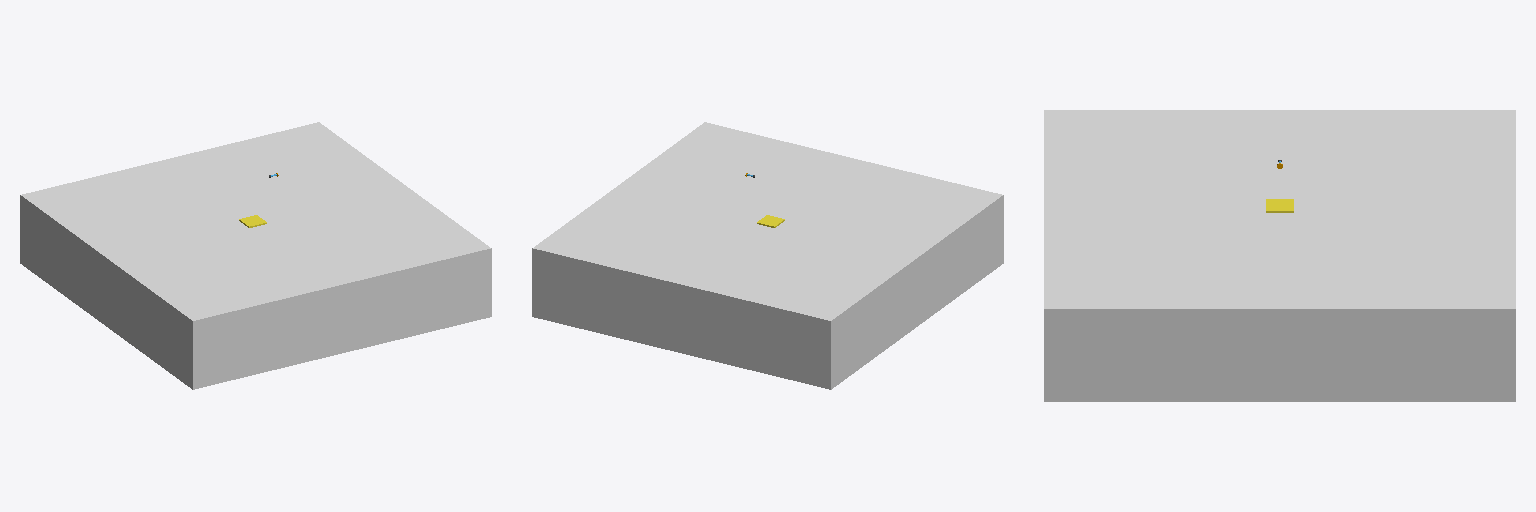
The robot description file, URDF, robot "panda":
<?xml version="1.0" encoding="utf-8"?>

<robot xmlns:drake="http://drake.mit.edu" name="panda">
  <material name="black">
    <color rgba="0.3 0.3 0.3 1"/>
  </material>

  <link name="panda_link0">
    <inertial>
      <mass value="2.92"/>
      <origin xyz="-0.025566 -2.88e-05 0.057332" rpy="0 0 0"/>
      <inertia ixx="0.00782229414331" ixy="-1.56191622996e-05" ixz="-0.00126005738123" iyy="0.0109027971813" iyz="1.08233858202e-05" izz="0.0102355503949"/>
    </inertial>
    <visual>
      <origin rpy="1.57079632679 0 0"/>
      <geometry>
        <mesh filename="package://drake/manipulation/models/franka_description/meshes/visual/link0.obj"/>
      </geometry>
    </visual>
    <collision>
      <origin rpy="0 0 0" xyz="0.02 0.0 0.04"/>
      <geometry>
        <sphere radius="0.06"/>
      </geometry>
    </collision>
    <collision>
      <origin rpy="0 0 0" xyz="0.01 0.05 0.06"/>
      <geometry>
        <sphere radius="0.06"/>
      </geometry>
    </collision>
    <collision>
      <origin rpy="0 0 0" xyz="0.01 -0.05 0.06"/>
      <geometry>
        <sphere radius="0.06"/>
      </geometry>
    </collision>
    <collision>
      <origin rpy="0 0 0" xyz="-0.06 0.0 0.06"/>
      <geometry>
        <sphere radius="0.06"/>
      </geometry>
    </collision>
    <collision>
      <origin rpy="0 0 0" xyz="-0.06 0.05 0.06"/>
      <geometry>
        <sphere radius="0.06"/>
      </geometry>
    </collision>
    <collision>
      <origin rpy="0 0 0" xyz="-0.03 0.05 0.06"/>
      <geometry>
        <sphere radius="0.06"/>
      </geometry>
    </collision>
    <collision>
      <origin rpy="0 0 0" xyz="-0.03 -0.05 0.06"/>
      <geometry>
        <sphere radius="0.06"/>
      </geometry>
    </collision>
    <collision>
      <origin rpy="0 0 0" xyz="-0.06 -0.05 0.06"/>
      <geometry>
        <sphere radius="0.06"/>
      </geometry>
    </collision>
    <collision>
      <origin rpy="0 0 0" xyz="-0.09 -0.05 0.06"/>
      <geometry>
        <sphere radius="0.06"/>
      </geometry>
    </collision>
    <collision>
      <origin rpy="0 0 0" xyz="-0.09 0.0 0.06"/>
      <geometry>
        <sphere radius="0.06"/>
      </geometry>
    </collision>
    <collision>
      <origin rpy="0 0 0" xyz="-0.09 0.05 0.06"/>
      <geometry>
        <sphere radius="0.06"/>
      </geometry>
    </collision>
    <collision>
      <origin rpy="0 0 0" xyz="-0.12 0.0 0.06"/>
      <geometry>
        <sphere radius="0.06"/>
      </geometry>
    </collision>
    <collision>
      <origin rpy="0 0 0" xyz="0.0 0.0 0.113"/>
      <geometry>
        <sphere radius="0.06"/>
      </geometry>
    </collision>
    <collision>
      <origin rpy="0 0 0" xyz="0.0 0.0 0.083"/>
      <geometry>
        <sphere radius="0.06"/>
      </geometry>
    </collision>
  </link>
  <link name="panda_link1">
    <inertial>
      <mass value="2.74"/>
      <origin xyz="0 -0.0324958 -0.0675818" rpy="0 0 0"/>
      <inertia ixx="0.0180416958283" ixy="0.0" ixz="0.0" iyy="0.0159136071891" iyz="0.0046758424612" izz="0.00620690827127"/>
    </inertial>
    <visual>
      <origin rpy="1.57079632679 0 0"/>
      <geometry>
        <mesh filename="package://drake/manipulation/models/franka_description/meshes/visual/link1.obj"/>
      </geometry>
    </visual>
    <collision>
      <origin rpy="0 0 0" xyz="0.0 0.0 -0.13"/>
      <geometry>
        <sphere radius="0.06"/>
      </geometry>
    </collision>
    <collision>
      <origin rpy="0 0 0" xyz="0.0 0.0 -0.16"/>
      <geometry>
        <sphere radius="0.06"/>
      </geometry>
    </collision>
    <collision>
      <origin rpy="0 0 0" xyz="0.0 0.0 -0.19"/>
      <geometry>
        <sphere radius="0.06"/>
      </geometry>
    </collision>
    <collision>
      <origin rpy="0 0 0" xyz="0.0 -0.04 -0.06"/>
      <geometry>
        <sphere radius="0.06"/>
      </geometry>
    </collision>
    <collision>
      <origin rpy="0 0 0" xyz="0.0 -0.0750 -0.0"/>
      <geometry>
        <sphere radius="0.06"/>
      </geometry>
    </collision>
    <collision>
      <origin rpy="0 0 0" xyz="0.0 -0.0350 -0.0"/>
      <geometry>
        <sphere radius="0.06"/>
      </geometry>
    </collision>
  </link>
  <joint name="panda_joint1" type="revolute">
    <origin rpy="0 0 0" xyz="0 0 0.333"/>
    <parent link="panda_link0"/>
    <child link="panda_link1"/>
    <axis xyz="0 0 1"/>
    <limit effort="87" lower="-2.8973" upper="2.8973" velocity="2.1750"/>
  </joint>
  <link name="panda_link2">
    <inertial>
      <mass value="2.74"/>
      <origin xyz="0 -0.06861 0.0322285" rpy="0 0 0"/>
      <inertia ixx="0.0182856182281" ixy="0.0" ixz="0.0" iyy="0.00621358421175" iyz="-0.00472844221905" izz="0.0161514346309"/>
    </inertial>
    <visual>
      <origin rpy="1.57079632679 0 0"/>
      <geometry>
        <mesh filename="package://drake/manipulation/models/franka_description/meshes/visual/link2.obj"/>
      </geometry>
    </visual>
    <collision>
      <origin rpy="0 0 0" xyz="0.0 0.0 0.0"/>
      <geometry>
        <sphere radius="0.06"/>
      </geometry>
    </collision>
    <collision>
      <origin rpy="0 0 0" xyz="0.0 0.0 0.035"/>
      <geometry>
        <sphere radius="0.06"/>
      </geometry>
    </collision>
    <collision>
      <origin rpy="0 0 0" xyz="0.0 0.0 0.075"/>
      <geometry>
        <sphere radius="0.06"/>
      </geometry>
    </collision>
    <collision>
      <origin rpy="0 0 0" xyz="0.0 -0.1710 0.0"/>
      <geometry>
        <sphere radius="0.06"/>
      </geometry>
    </collision>
    <collision>
      <origin rpy="0 0 0" xyz="0.0 -0.1360 0.0"/>
      <geometry>
        <sphere radius="0.06"/>
      </geometry>
    </collision>
    <collision>
      <origin rpy="0 0 0" xyz="0.0 -0.070 0.040"/>
      <geometry>
        <sphere radius="0.06"/>
      </geometry>
    </collision>
  </link>
  <joint name="panda_joint2" type="revolute">
    <origin rpy="-1.57079632679 0 0" xyz="0 0 0"/>
    <parent link="panda_link1"/>
    <child link="panda_link2"/>
    <axis xyz="0 0 1"/>
    <limit effort="87" lower="-1.7628" upper="1.7628" velocity="2.1750"/>
  </joint>
  <link name="panda_link3">
    <inertial>
      <mass value="2.38"/>
      <origin xyz="0.0469893 0.0316374 -0.031704" rpy="0 0 0"/>
      <inertia ixx="0.00771376630908" ixy="-0.00248490625138" ixz="-0.00332147581033" iyy="0.00989108008727" iyz="-0.00217796151484" izz="0.00811723558464"/>
    </inertial>
    <visual>
      <origin rpy="1.57079632679 0 0"/>
      <geometry>
        <mesh filename="package://drake/manipulation/models/franka_description/meshes/visual/link3.obj"/>
      </geometry>
    </visual>
    <collision>
      <origin rpy="0 0 0" xyz="0.0 0.0 -0.11"/>
      <geometry>
        <sphere radius="0.06"/>
      </geometry>
    </collision>
    <collision>
      <origin rpy="0 0 0" xyz="0.0 0.0 -0.07"/>
      <geometry>
        <sphere radius="0.06"/>
      </geometry>
    </collision>
    <collision>
      <origin rpy="0 0 0" xyz="0.0825 0.03 -0.0"/>
      <geometry>
        <sphere radius="0.06"/>
      </geometry>
    </collision>
    <collision>
      <origin rpy="0 0 0" xyz="0.0825 0.06 -0.0"/>
      <geometry>
        <sphere radius="0.06"/>
      </geometry>
    </collision>
    <collision>
      <origin rpy="0 0 0" xyz="0.04 0.03 -0.03"/>
      <geometry>
        <sphere radius="0.06"/>
      </geometry>
    </collision>
  </link>
  <joint name="panda_joint3" type="revolute">
    <origin rpy="1.57079632679 0 0" xyz="0 -0.316 0"/>
    <parent link="panda_link2"/>
    <child link="panda_link3"/>
    <axis xyz="0 0 1"/>
    <limit effort="87" lower="-2.8973" upper="2.8973" velocity="2.1750"/>
  </joint>
  <link name="panda_link4">
    <inertial>
      <mass value="2.38"/>
      <origin xyz="-0.0360446 0.0336853 0.031882" rpy="0 0 0"/>
      <inertia ixx="0.00799663881132" ixy="0.00347095570217" ixz="-0.00241222942995" iyy="0.00825390705278" iyz="0.00235774044121" izz="0.0102515004345"/>
    </inertial>
    <visual>
      <origin rpy="1.57079632679 0 0"/>
      <geometry>
        <mesh filename="package://drake/manipulation/models/franka_description/meshes/visual/link4.obj"/>
      </geometry>
    </visual>
    <collision>
      <origin rpy="0 0 0" xyz="0.0 0.0 0.06"/>
      <geometry>
        <sphere radius="0.06"/>
      </geometry>
    </collision>
    <collision>
      <origin rpy="0 0 0" xyz="0.0 0.0 0.03"/>
      <geometry>
        <sphere radius="0.06"/>
      </geometry>
    </collision>
    <collision>
      <origin rpy="0 0 0" xyz="-0.0350 0.03 0.04"/>
      <geometry>
        <sphere radius="0.05"/>
      </geometry>
    </collision>
    <collision>
      <origin rpy="0 0 0" xyz="-0.05 0.04 0.01"/>
      <geometry>
        <sphere radius="0.055"/>
      </geometry>
    </collision>
    <collision>
      <origin rpy="0 0 0" xyz="0.0 0.0 0.0"/>
      <geometry>
        <sphere radius="0.06"/>
      </geometry>
    </collision>
    <collision>
      <origin rpy="0 0 0" xyz="-0.0825 0.0640 -0.0"/>
      <geometry>
        <sphere radius="0.06"/>
      </geometry>
    </collision>
    <collision>
      <origin rpy="0 0 0" xyz="-0.0825 0.1040 -0.0"/>
      <geometry>
        <sphere radius="0.06"/>
      </geometry>
    </collision>
  </link>
  <joint name="panda_joint4" type="revolute">
    <origin rpy="1.57079632679 0 0" xyz="0.0825 0 0"/>
    <parent link="panda_link3"/>
    <child link="panda_link4"/>
    <axis xyz="0 0 1"/>
    <limit effort="87" lower="-3.0718" upper="-0.0698" velocity="2.1750"/>
  </joint>
  <link name="panda_link5">
    <inertial>
      <mass value="2.74"/>
      <origin xyz="0 0.0610427 -0.104176" rpy="0 0 0"/>
      <inertia ixx="0.030371374513" ixy="6.50283587108e-07" ixz="-1.05129179916e-05" iyy="0.0288752887402" iyz="-0.00775653445787" izz="0.00444134056164"/>
    </inertial>
    <visual>
      <origin rpy="1.57079632679 0 0"/>
      <geometry>
        <mesh filename="package://drake/manipulation/models/franka_description/meshes/visual/link5.obj"/>
      </geometry>
    </visual>
    <collision>
      <origin rpy="0 0 0" xyz="0.0 0.0 -0.24"/>
      <geometry>
        <sphere radius="0.06"/>
      </geometry>
    </collision>
    <collision>
      <origin rpy="0 0 0" xyz="0.0 0.0 -0.21"/>
      <geometry>
        <sphere radius="0.06"/>
      </geometry>
    </collision>
    <collision>
      <origin rpy="0 0 0" xyz="0.0 0.09 -0.055"/>
      <geometry>
        <sphere radius="0.035"/>
      </geometry>
    </collision>
    <collision>
      <origin rpy="0 0 0" xyz="0.0 0.0850 -0.08"/>
      <geometry>
        <sphere radius="0.035"/>
      </geometry>
    </collision>
    <collision>
      <origin rpy="0 0 0" xyz="0.0 0.0850 -0.11"/>
      <geometry>
        <sphere radius="0.035"/>
      </geometry>
    </collision>
    <collision>
      <origin rpy="0 0 0" xyz="0.0 0.08 -0.13"/>
      <geometry>
        <sphere radius="0.035"/>
      </geometry>
    </collision>
    <collision>
      <origin rpy="0 0 0" xyz="0.0 0.08 -0.15"/>
      <geometry>
        <sphere radius="0.035"/>
      </geometry>
    </collision>
    <collision>
      <origin rpy="0 0 0" xyz="0.0 0.07 -0.16"/>
      <geometry>
        <sphere radius="0.04"/>
      </geometry>
    </collision>
    <collision>
      <origin rpy="0 0 0" xyz="0.0 0.08 -0.02"/>
      <geometry>
        <sphere radius="0.05"/>
      </geometry>
    </collision>
    <collision>
      <origin rpy="0 0 0" xyz="0.0 0.08 -0.0"/>
      <geometry>
        <sphere radius="0.055"/>
      </geometry>
    </collision>
    <collision>
      <origin rpy="0 0 0" xyz="0.0 0.05 -0.20"/>
      <geometry>
        <sphere radius="0.055"/>
      </geometry>
    </collision>
    <collision>
      <origin rpy="0 0 0" xyz="0.0 0.07 -0.0"/>
      <geometry>
        <sphere radius="0.06"/>
      </geometry>
    </collision>
  </link>
  <joint name="panda_joint5" type="revolute">
    <origin rpy="-1.57079632679 0 0" xyz="-0.0825 0.384 0"/>
    <parent link="panda_link4"/>
    <child link="panda_link5"/>
    <axis xyz="0 0 1"/>
    <limit effort="12" lower="-2.8973" upper="2.8973" velocity="2.610"/>
  </joint>
  <link name="panda_link6">
    <inertial>
      <mass value="1.55"/>
      <origin xyz="0.0510509 0.009108 0.0106343" rpy="0 0 0"/>
      <inertia ixx="0.00303336450376" ixy="-0.000437276865508" ixz="0.000629257294877" iyy="0.00404479911567" iyz="0.000130472021025" izz="0.00558234286039"/>
    </inertial>
    <visual>
      <origin rpy="1.57079632679 0 0"/>
      <geometry>
        <mesh filename="package://drake/manipulation/models/franka_description/meshes/visual/link6.obj"/>
      </geometry>
    </visual>
    <collision>
      <origin rpy="0 0 0" xyz="0.08 0.03 0.0"/>
      <geometry>
        <sphere radius="0.06"/>
      </geometry>
    </collision>
    <collision>
      <origin rpy="0 0 0" xyz="0.04 0.01 0.0"/>
      <geometry>
        <sphere radius="0.06"/>
      </geometry>
    </collision>
    <collision>
      <origin rpy="0 0 0" xyz="0.04 0.0 0.0"/>
      <geometry>
        <sphere radius="0.06"/>
      </geometry>
    </collision>
    <collision>
      <origin rpy="0 0 0" xyz="0.0 0.0 0.01"/>
      <geometry>
        <sphere radius="0.06"/>
      </geometry>
    </collision>
    <collision>
      <origin rpy="0 0 0" xyz="0.0 0.0 -0.03"/>
      <geometry>
        <sphere radius="0.05"/>
      </geometry>
    </collision>
  </link>
  <joint name="panda_joint6" type="revolute">
    <origin rpy="1.57079632679 0 0" xyz="0 0 0"/>
    <parent link="panda_link5"/>
    <child link="panda_link6"/>
    <axis xyz="0 0 1"/>
    <limit effort="12" lower="-0.0175" upper="3.7525" velocity="2.610"/>
  </joint>
  <link name="panda_link7">,
    <inertial>
      <mass value="0.54"/>
      <origin xyz="0.0109695 0.0107965 0.0650411" rpy="0 0 0"/>
      <inertia ixx="0.000888868887021" ixy="-0.00012239074652" ixz="3.98699829666e-05" iyy="0.000888001373233" iyz="-9.33825115206e-05" izz="0.0007176834609"/>
    </inertial>
    <visual>
      <origin rpy="1.57079632679 0 0"/>
      <geometry>
        <mesh filename="package://drake/manipulation/models/franka_description/meshes/visual/link7.obj"/>
      </geometry>
    </visual>
    <collision>
      <origin rpy="0 0 0" xyz="0 0 0.06"/>
      <geometry>
        <sphere radius="0.06"/>
      </geometry>
    </collision>
    <collision>
      <origin rpy="0 0 0" xyz="0 0 0.01"/>
      <geometry>
        <sphere radius="0.05"/>
      </geometry>
    </collision>
  </link>
  <joint name="panda_joint7" type="revolute">
    <origin rpy="1.57079632679 0 0" xyz="0.088 0 0"/>
    <parent link="panda_link6"/>
    <child link="panda_link7"/>
    <axis xyz="0 0 1"/>
    <limit effort="12" lower="-2.8973" upper="2.8973" velocity="2.610"/>
  </joint>
  <link name="panda_link8">
    <inertial>
      <origin rpy="0 0 0" xyz="0 0 0.0048"/>
      <mass value="0.0779312"/>
      <interia ixx="0.0000193318083" iyy="0.0000193318083" izz="0.0000386636166" ixy="0" ixz="0" iyz="0"/>
    </inertial>
    <collision>
      <origin rpy="0 0 0" xyz="0 0 0.0048"/>
      <geometry>
        <cylinder radius="0.0315" length="0.0096"/>
      </geometry>
    </collision>
    <visual>
      <origin rpy="0 0 0" xyz="0 0 0.0048"/>
      <geometry>
        <cylinder radius="0.0315" length="0.0096"/>
      </geometry>
    </visual>
  </link>
  <joint name="panda_joint8" type="fixed">
    <origin rpy="0 0 0" xyz="0 0 0.107"/>
    <parent link="panda_link7"/>
    <child link="panda_link8"/>
  </joint>
  <link name="panda_link9">
    <inertial>
      <origin rpy="0 0 0" xyz="0 0 0.0508"/>
      <mass value="0.1340688"/>
      <interia ixx="0.000005405989188" iyy="0.000005405989188" izz="0.000010811978376" ixy="0" ixz="0" iyz="0"/>
    </inertial>
    <visual>
      <origin rpy="0 0 0" xyz="0 0 0.0508"/>
      <geometry>
        <cylinder radius="0.0127" length="0.1016"/>
      </geometry>
    </visual>
  </link>
  <joint name="panda_joint9" type="fixed">
    <origin rpy="0 0 0" xyz="0 0 0.0096"/>
    <parent link="panda_link8"/>
    <child link="panda_link9"/> 
  </joint>
  <link name="panda_link10">
   <inertial>
      <origin rpy="0 0 0" xyz="0 0 0.0153"/>
      <mass value="0.057"/>
      <interia ixx="0.0" iyy="0.0" izz="0.0" ixy="0" ixz="0" iyz="0"/>
    </inertial>
    <visual>
      <origin rpy="0 0 0" xyz="0 0 0.0153"/>
      <geometry>
        <sphere radius="0.0195"/>
      </geometry>
      <material name="black"/>
    </visual>
    <collision>
      <origin rpy="0 0 0" xyz="0 0 0.0153"/>
      <geometry>
        <sphere radius="0.0195"/>
      </geometry>
    </collision>
  </link>
  <joint name="panda_joint10" type="fixed">
    <origin rpy="0 0 0" xyz="0 0 0.1016"/>
    <parent link="panda_link9"/>
    <child link="panda_link10"/>
  </joint>
  <transmission name="panda_tran1">
    <type>transmission_interface/SimpleTransmission</type>
    <joint name="panda_joint1">
      <hardwareInterface>PositionJointInterface</hardwareInterface>
    </joint>
    <actuator name="panda_motor1">
      <hardwareInterface>PositionJointInterface</hardwareInterface>
      <mechanicalReduction>1</mechanicalReduction>
    </actuator>
  </transmission>
  <transmission name="panda_tran2">
    <type>transmission_interface/SimpleTransmission</type>
    <joint name="panda_joint2">
      <hardwareInterface>PositionJointInterface</hardwareInterface>
    </joint>
    <actuator name="panda_motor2">
      <hardwareInterface>PositionJointInterface</hardwareInterface>
      <mechanicalReduction>1</mechanicalReduction>
    </actuator>
  </transmission>
  <transmission name="panda_tran3">
    <type>transmission_interface/SimpleTransmission</type>
    <joint name="panda_joint3">
      <hardwareInterface>PositionJointInterface</hardwareInterface>
    </joint>
    <actuator name="panda_motor3">
      <hardwareInterface>PositionJointInterface</hardwareInterface>
      <mechanicalReduction>1</mechanicalReduction>
    </actuator>
  </transmission>
  <transmission name="panda_tran4">
    <type>transmission_interface/SimpleTransmission</type>
    <joint name="panda_joint4">
      <hardwareInterface>PositionJointInterface</hardwareInterface>
    </joint>
    <actuator name="panda_motor4">
      <hardwareInterface>PositionJointInterface</hardwareInterface>
      <mechanicalReduction>1</mechanicalReduction>
    </actuator>
  </transmission>
  <transmission name="panda_tran5">
    <type>transmission_interface/SimpleTransmission</type>
    <joint name="panda_joint5">
      <hardwareInterface>PositionJointInterface</hardwareInterface>
    </joint>
    <actuator name="panda_motor5">
      <hardwareInterface>PositionJointInterface</hardwareInterface>
      <mechanicalReduction>1</mechanicalReduction>
    </actuator>
  </transmission>
  <transmission name="panda_tran6">
    <type>transmission_interface/SimpleTransmission</type>
    <joint name="panda_joint6">
      <hardwareInterface>PositionJointInterface</hardwareInterface>
    </joint>
    <actuator name="panda_motor6">
      <hardwareInterface>PositionJointInterface</hardwareInterface>
      <mechanicalReduction>1</mechanicalReduction>
    </actuator>
  </transmission>
  <transmission name="panda_tran7">
    <type>transmission_interface/SimpleTransmission</type>
    <joint name="panda_joint7">
      <hardwareInterface>PositionJointInterface</hardwareInterface>
    </joint>
    <actuator name="panda_motor7">
      <hardwareInterface>PositionJointInterface</hardwareInterface>
      <mechanicalReduction>1</mechanicalReduction>
    </actuator>
  </transmission>
  <drake:collision_filter_group name="group_link57">
    <drake:member link="panda_link5"/>
    <drake:member link="panda_link7"/>
    <drake:ignored_collision_filter_group name="group_link57"/>
  </drake:collision_filter_group>

    <!-- Visual box to connect franka to box (table) -->
      <link name="connection">
        <visual>
          <origin xyz="-0.05 0 -0.01225" />
          <geometry>
            <box size="0.3 0.3 0.0245"/>
          </geometry>
        </visual>
      </link>
      <joint name="base_to_connection" type="fixed">
        <parent link="panda_link0"/>
        <child link="connection"/>
        <origin xyz="0 0 0"/>
      </joint>


	<link name="box">
    <inertial>
      <mass value="1"/>
      <!-- Inertia values were calculated to be consistent with the mass and
           geometry size, assuming a uniform density. -->
     <inertia ixx="100"  ixy="0"  ixz="0" iyy="100" iyz="0" izz="100" />
    </inertial>
    <visual>
      <geometry>
        <box size="5 5 1.1"/>
      </geometry>
      <material>
        <color rgba="0.9 0.9 0.9 0.5"/>
      </material>
    </visual>
   <collision name="box">
      <geometry>
        <box size="5 5 1.1"/>
      </geometry>
                  <drake:proximity_properties>
        <drake:mu_static value="1"/>
        <drake:mu_dynamic value="1"/>
      </drake:proximity_properties>
    </collision>
    <contact>
            <!-- TODO: not sure if these values make sense -->
            <!-- TODO: are these values even read by pybullet? -->
            <lateral_friction value="0.0"/>
            <rolling_friction value="0.0"/>
            <contact_cfm value="0.0"/>
            <contact_erp value="0.0"/>
        </contact>
  </link>

    <joint name="connection_to_box" type="fixed">
      <parent link="connection"/>
      <child link="box"/>
      <!-- lowered the table since Franka table is a bit lower as well (offset by -0.0301)-->
      <origin xyz="0 0 -0.57450000000000001"/> <!-- -0.05 + table_offset-->
    </joint>



   <drake:collision_filter_group name="box_group">
  <drake:member link="box"/>
  <drake:ignored_collision_filter_group name="box_group"/>
  </drake:collision_filter_group>


  
</robot>

--- Facts derived from the render (not from the file) ---
The picture shows the robot from 3 angles, left to right: view 1: azimuth 30°, elevation 25°; view 2: azimuth 150°, elevation 25°; view 3: azimuth 270°, elevation 25°; orthographic projection.
Model panda with 13 links and 12 joints (7 revolute, 5 fixed), rooted at panda_link0, posed all joints at 0 but 1 set to mid-range because 0 is outside their limits (panda_joint4 = -1.57).
Visible links, largest first — view 1: box; view 2: box; view 3: box.
Link boxes in pixels (box(x1,y1,x2,y2)): box: box(20, 122, 491, 389); box: box(532, 122, 1003, 389); box: box(1044, 110, 1515, 401).
Size in the robot's own frame: 5 by 5 by 1.8 metres.
Meshes: 8 distinct files referenced, 0 mesh visuals loaded (none loaded); not drawn: 8 (reference not matched to a file when rendering).